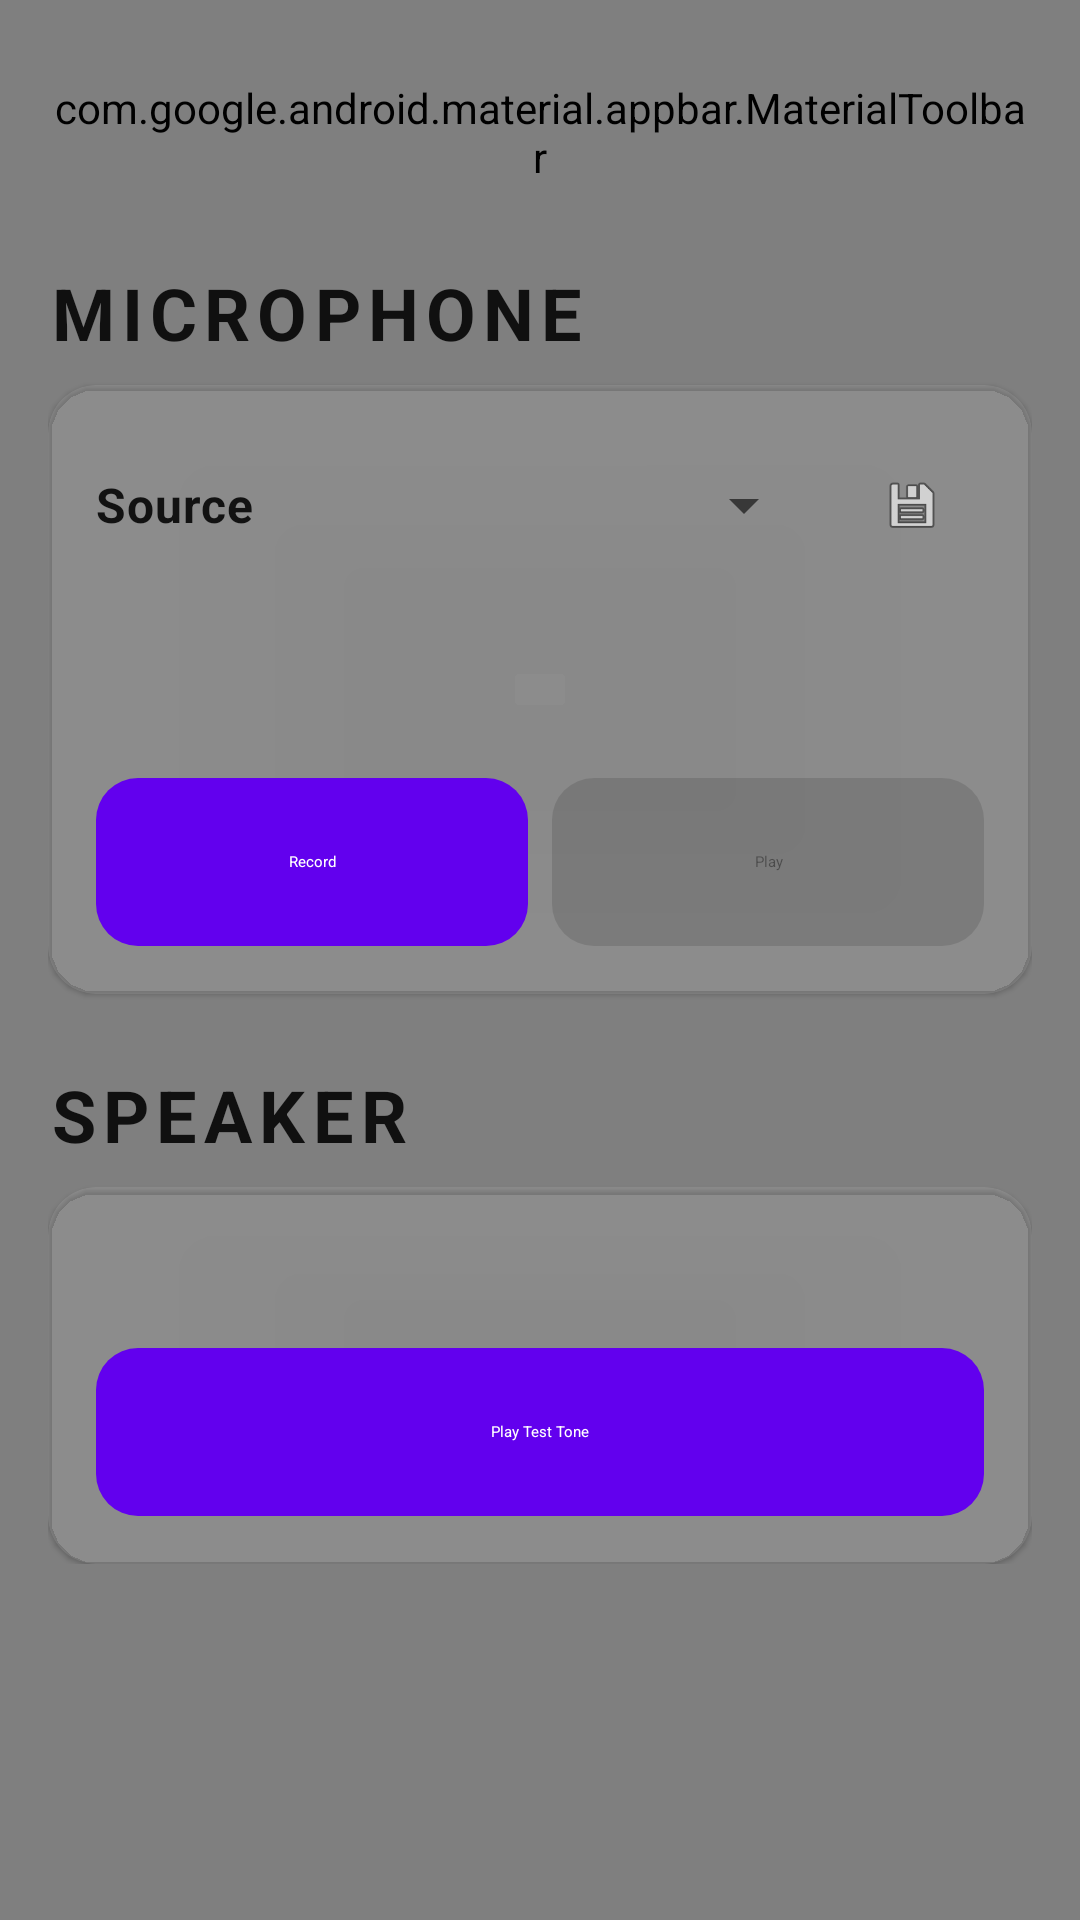

Icon click points for this 1080 x 1920 phone screenshot, format [x,y]:
Save source: [912,505]
